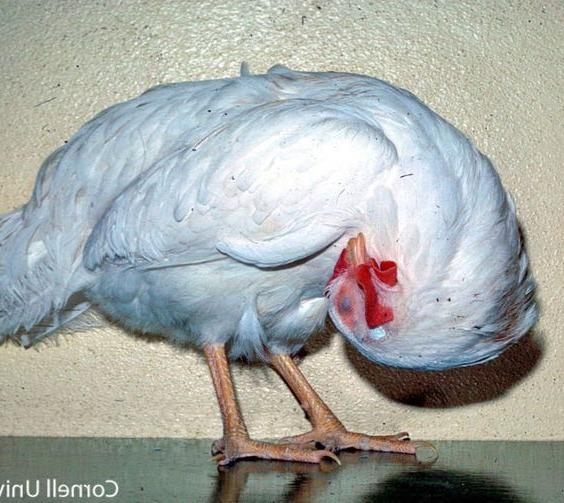AbNormal: (41, 67, 564, 470)
